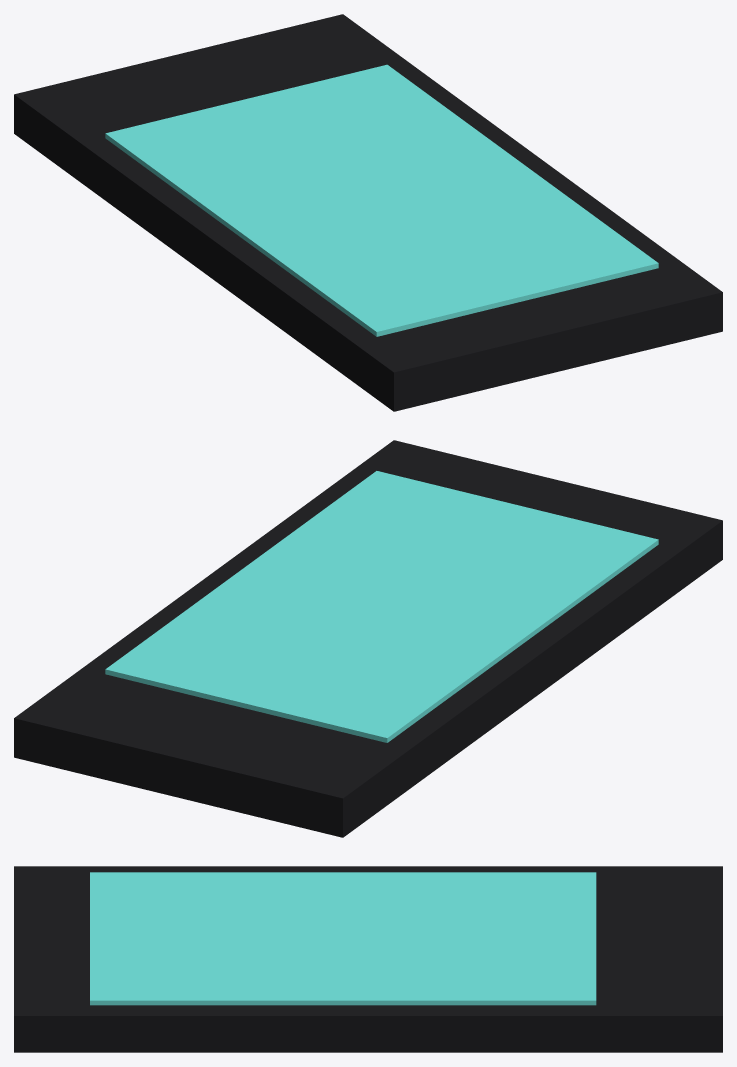
The model's file is GD_MobilePhone_01.glb.
3 views of the same model, one above another, from view 1: azimuth 30°, elevation 25°; view 2: azimuth 150°, elevation 25°; view 3: azimuth 270°, elevation 25° (orthographic). The views are drawn at different scales.
Visible parts, largest first — view 1: GD_MobilePhone_01; view 2: GD_MobilePhone_01; view 3: GD_MobilePhone_01.
Part boxes in pixels (x1,y1,x2,y2): GD_MobilePhone_01: (14,14,722,411); GD_MobilePhone_01: (14,440,722,837); GD_MobilePhone_01: (14,866,722,1052).
Size of the model in its own units: 0.07 by 0.009 by 0.14.
Materials: 1 (1 with a texture image).
